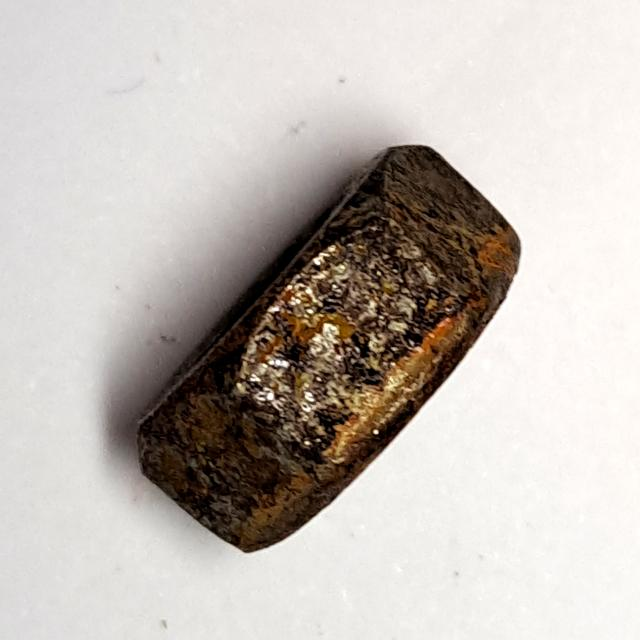Side_Rust: (126, 121, 538, 567)
